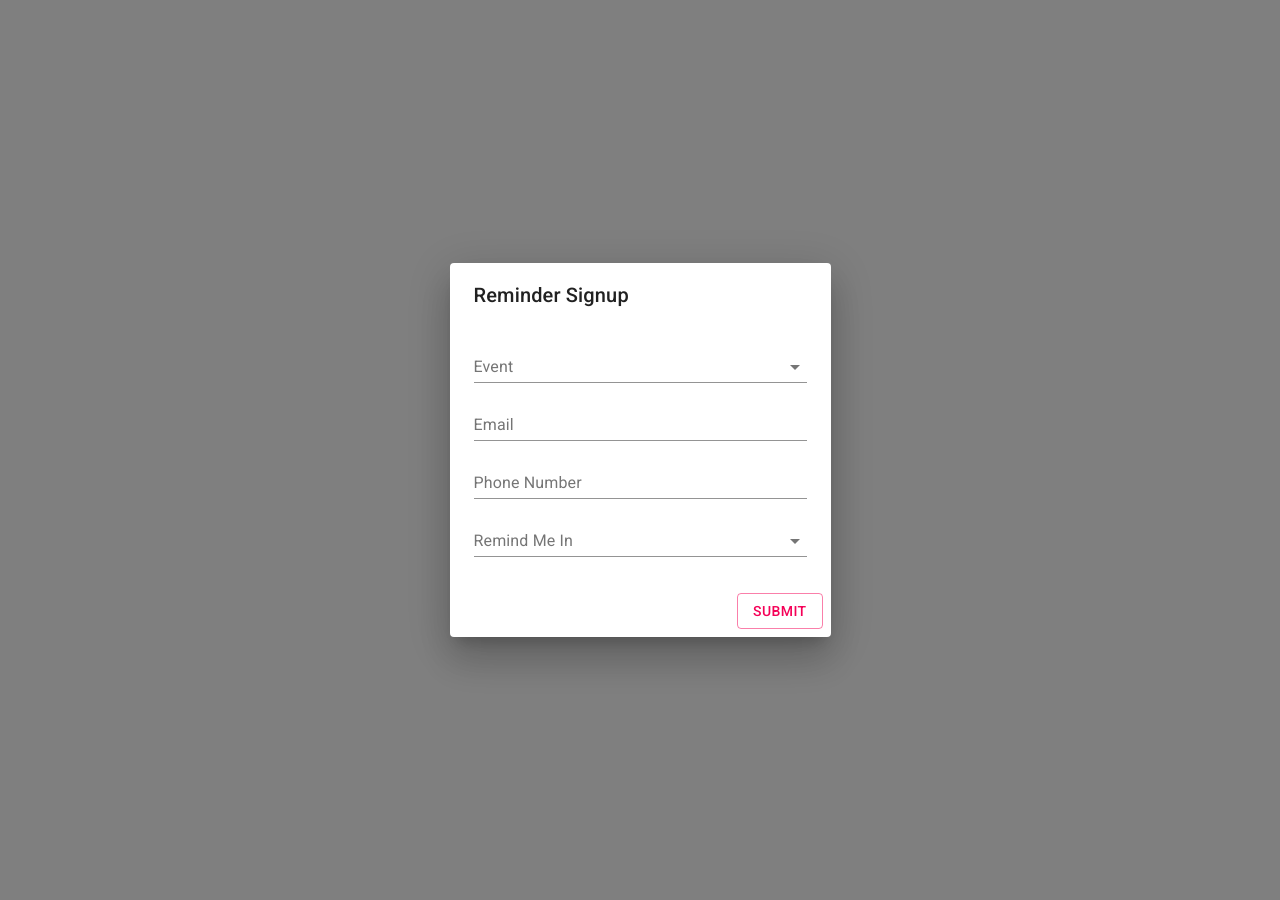
Test: reminders form › Events in the event drop down filter and appear correctly
The image size is (1280, 900).
Find the event input and click it
Click the button without text next to "Event". click: (640, 367)
box: [474,351,806,383]
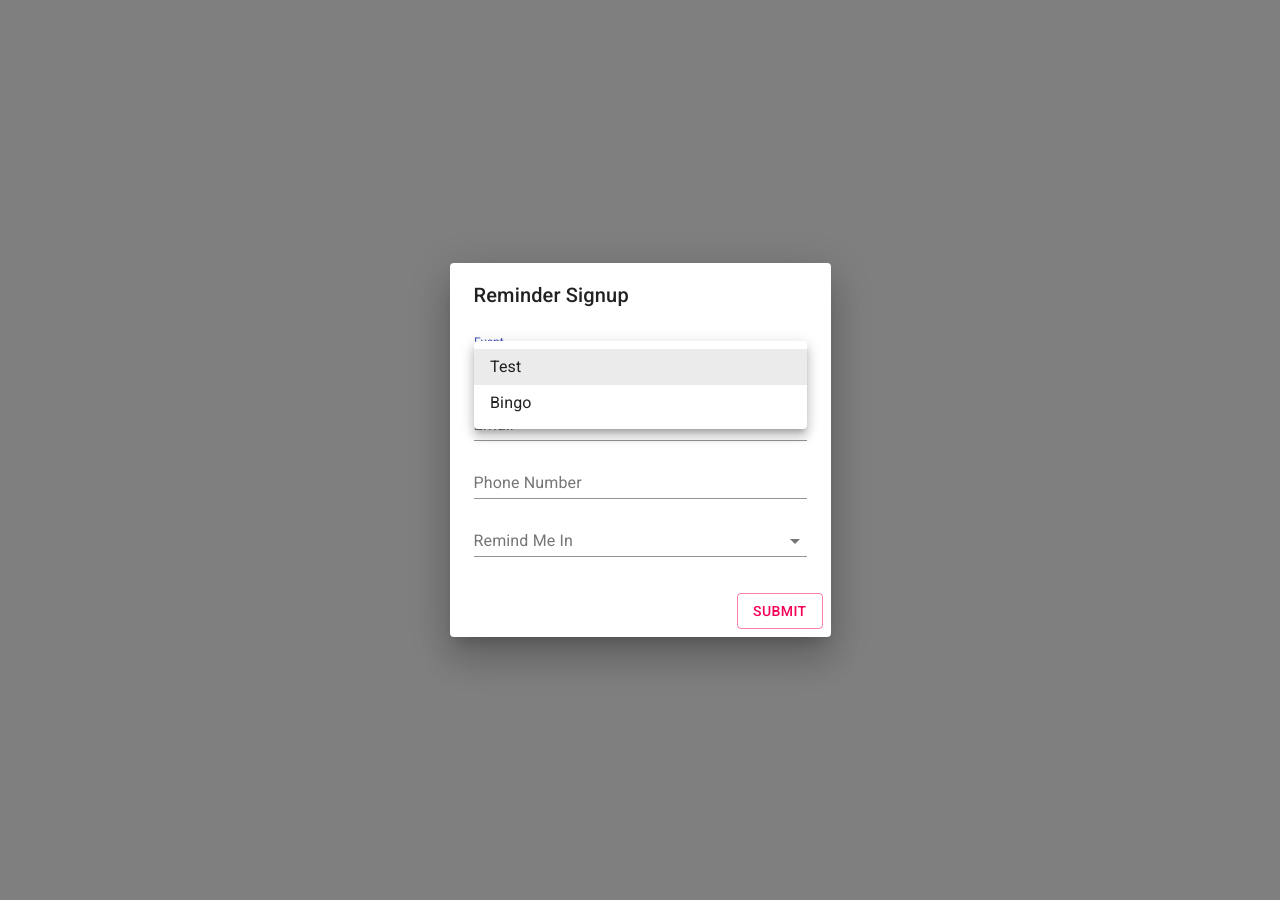
Expected: the option "Bingo" is shown, [490,393,532,412]
Expected: the option "Test" is shown, [474,349,807,385]
